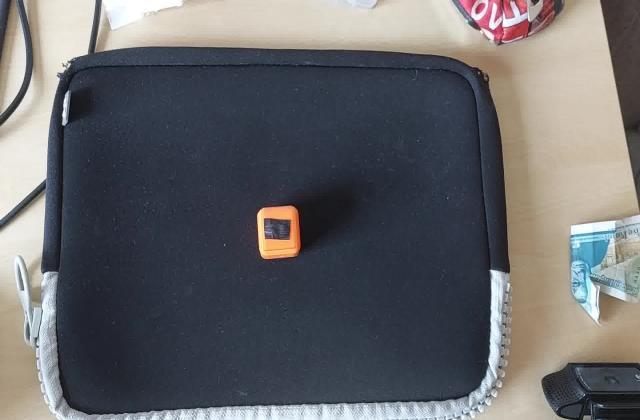black: (260, 217, 295, 244)
sticker: (255, 206, 302, 262)
